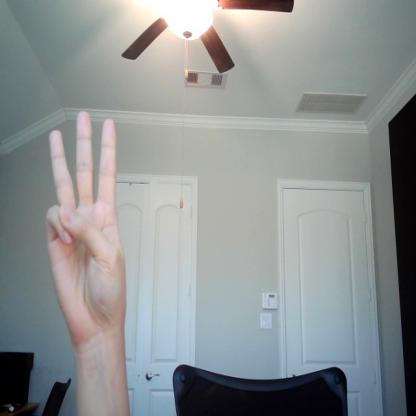six: (38, 105, 136, 344)
